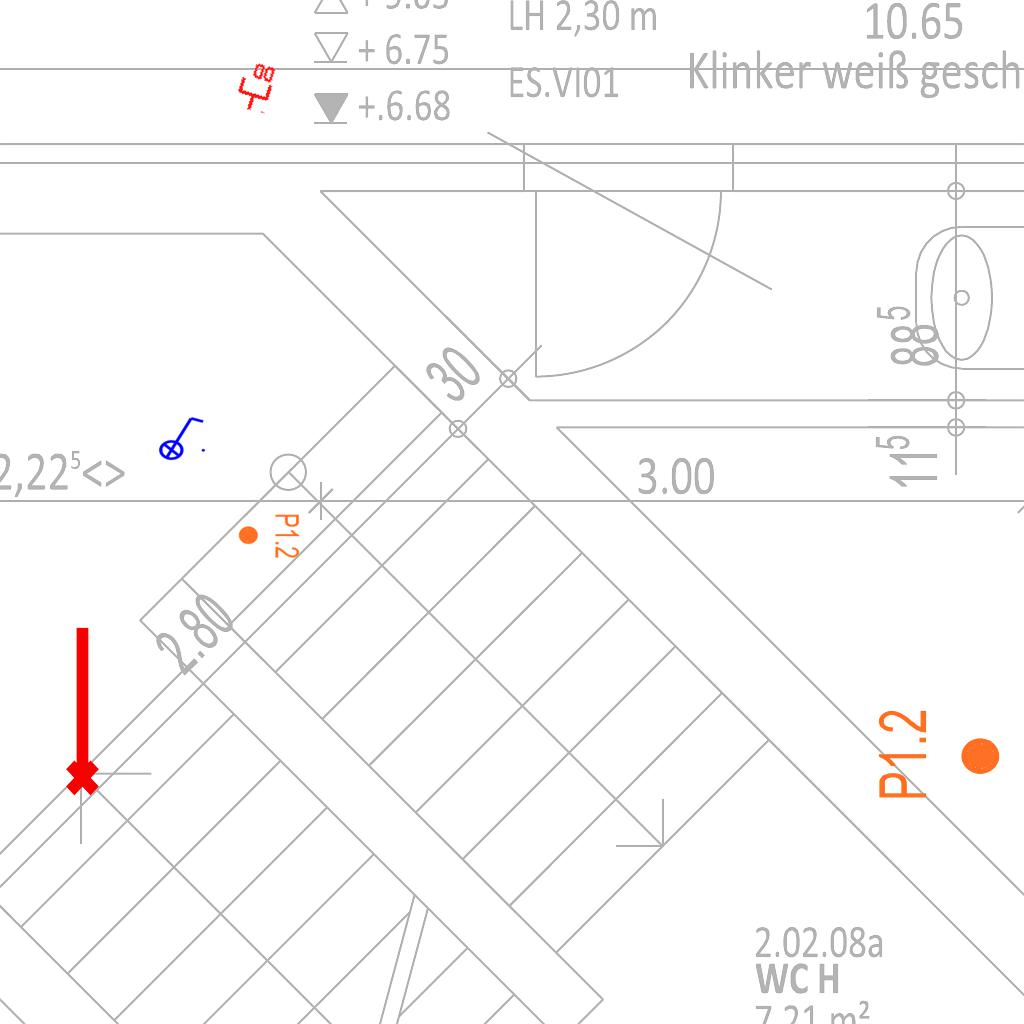ASR_Ansaugoeffnung: (57, 622, 103, 798)
Ausschalter_beleuchtet: (152, 413, 208, 461)
Datenanschluss_zweifach: (231, 57, 279, 116)
Downlight_LED_Einbauleuchten_Flur: (875, 708, 1003, 801), (237, 513, 301, 559)
